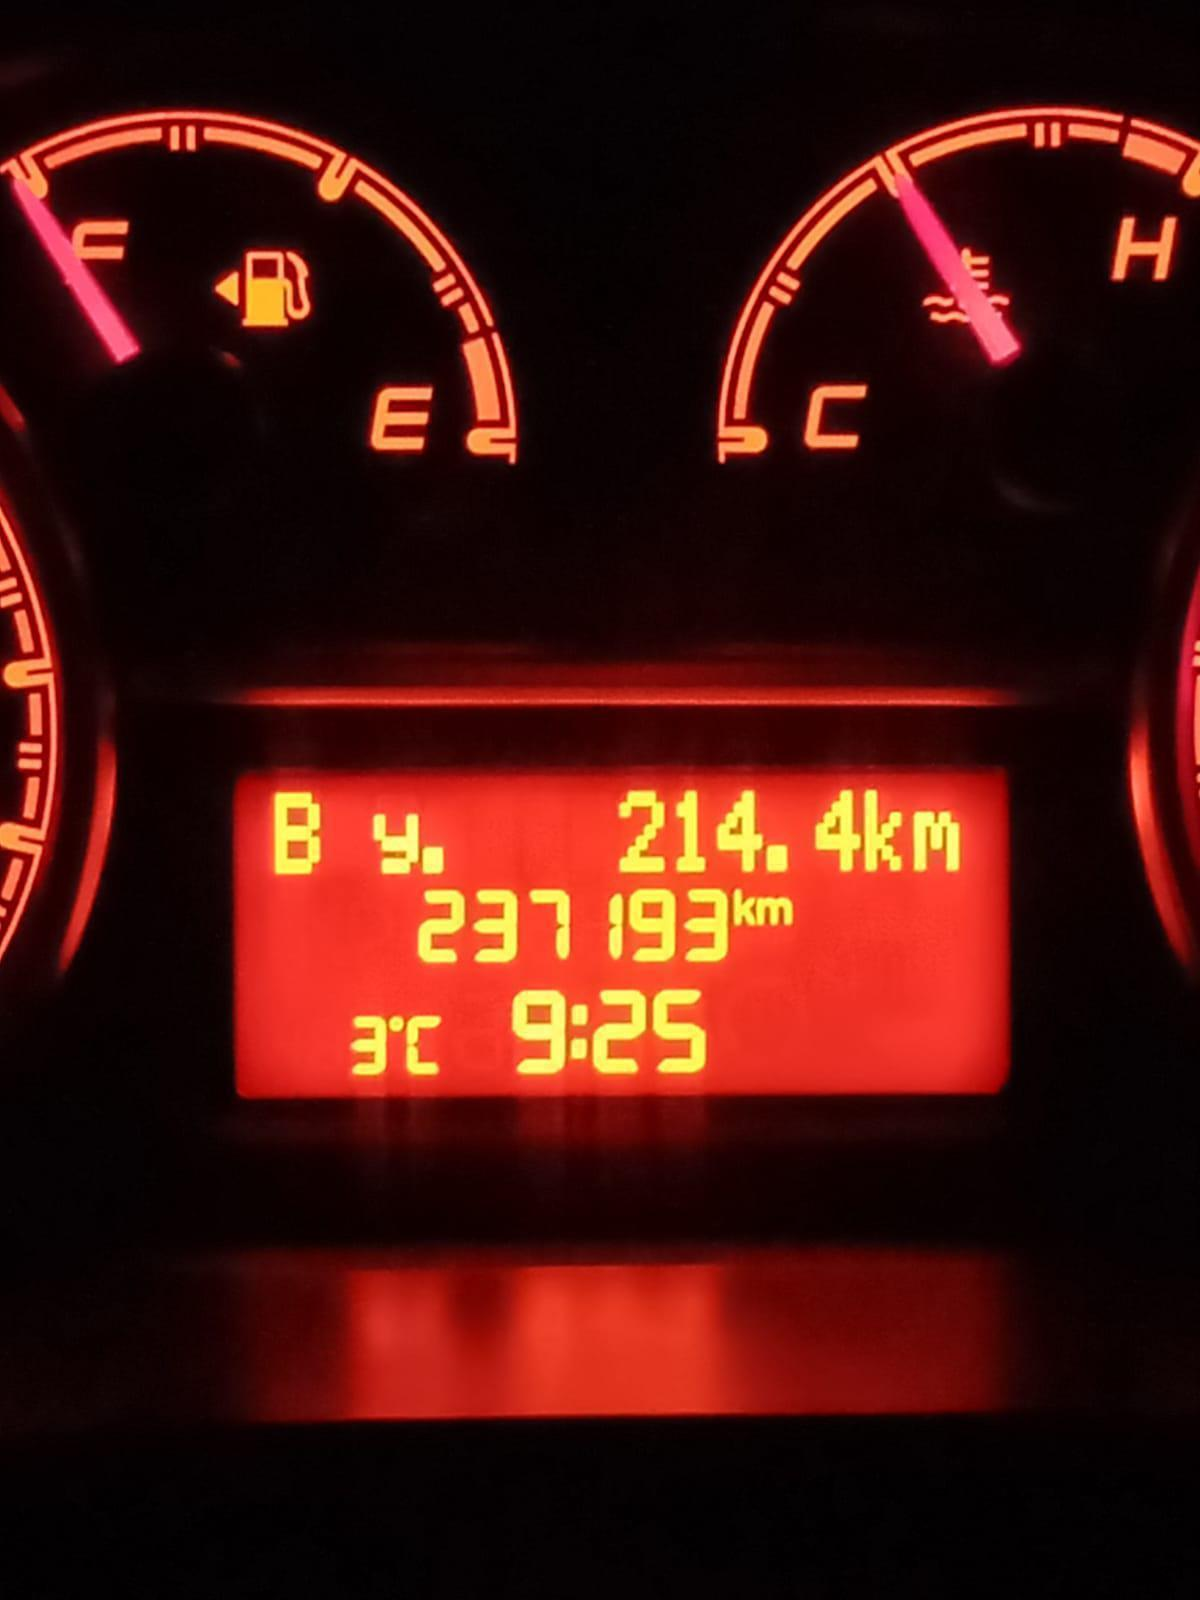,: (420, 845, 447, 876), (764, 843, 790, 874)
1: (673, 786, 708, 874), (605, 892, 626, 963)
2: (590, 988, 648, 1075), (616, 787, 666, 874), (415, 889, 465, 963)
3: (470, 888, 519, 964), (681, 888, 729, 963), (347, 1015, 389, 1077)
4: (713, 787, 765, 873), (812, 787, 861, 876)
5: (650, 988, 710, 1075)
7: (524, 888, 571, 961)
9: (509, 988, 568, 1075), (626, 887, 677, 963)
X: (270, 790, 321, 877), (863, 787, 903, 872), (910, 809, 961, 872), (371, 811, 420, 876), (402, 1014, 442, 1076), (754, 896, 794, 927), (568, 1002, 589, 1061), (731, 887, 756, 929)
odometer: (223, 763, 1020, 1110)
